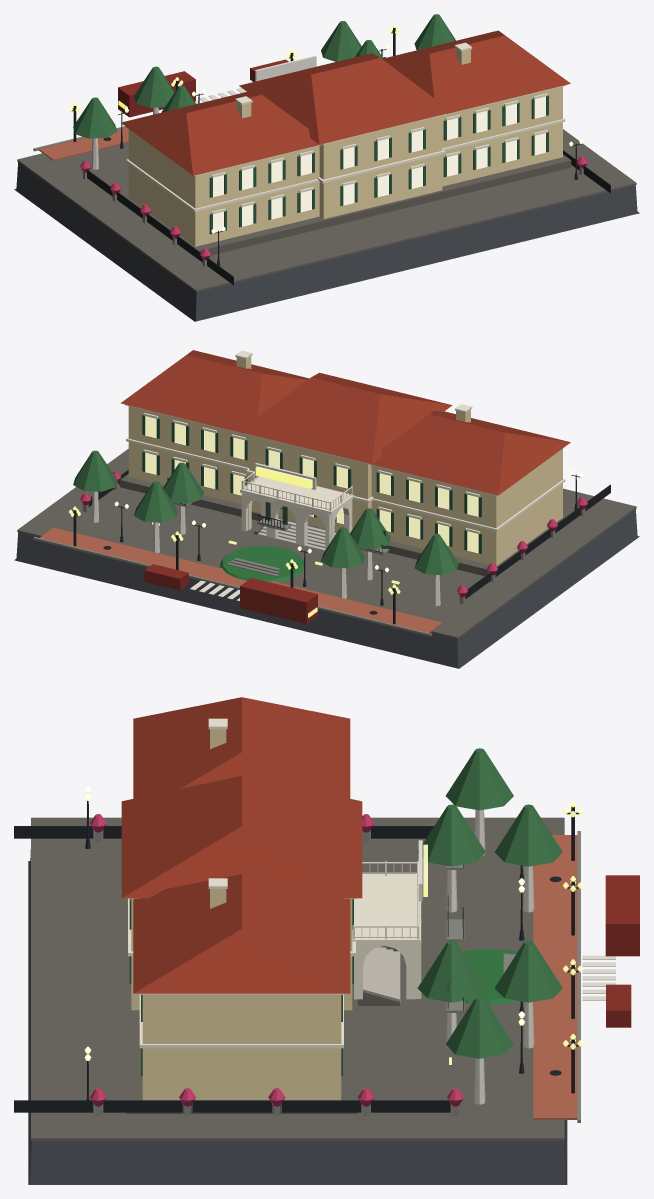
Rendered from lm_09_dinh_1.glb.
The picture shows the model from 3 angles, top to bottom: view 1: azimuth 30°, elevation 25°; view 2: azimuth 150°, elevation 25°; view 3: azimuth 270°, elevation 25°; orthographic projection. The views are drawn at different scales.
Visible parts, largest first — view 1: Dinh1_Hipped_Terracotta_Roof, Dinh1_Neoclassical_Ochre_Walls, Foundation_Plinth_Trim, Foundation_Skirt, Dinh1_Palace_Windows_Glow, Melaleuca_Green_Canopies, Dinh1_Stone_Plinth, Dinh1_Classical_Ivory_Moldings, Dinh1_Green_Window_Shutters, Phase2_WroughtIron_Balconies_Railings_Manholes, Phase2_Vintage_Vehicles_Train_SwanBoat, Phase2_Interlocking_Brick_Sidewalk (+2 smaller); view 2: Dinh1_Hipped_Terracotta_Roof, Foundation_Plinth_Trim, Dinh1_Neoclassical_Ochre_Walls, Foundation_Skirt, Dinh1_Classical_Ivory_Moldings, Melaleuca_Green_Canopies, Phase2_Interlocking_Brick_Sidewalk, Dinh1_Palace_Windows_Glow, Phase2_Vintage_Vehicles_Train_SwanBoat, Dinh1_Green_Window_Shutters, Phase2_Granite_Curb_And_Entry_Steps, Dinh1_Stone_Plinth (+9 smaller); view 3: Foundation_Plinth_Trim, Dinh1_Hipped_Terracotta_Roof, Foundation_Skirt, Dinh1_Neoclassical_Ochre_Walls, Melaleuca_Green_Canopies, Phase2_Interlocking_Brick_Sidewalk, Dinh1_Classical_Ivory_Moldings, Phase2_WroughtIron_Balconies_Railings_Manholes, Phase2_Vintage_Vehicles_Train_SwanBoat, Dinh1_Stone_Plinth, Phase2_Granite_Curb_And_Entry_Steps, Melaleuca_White_Trunks (+6 smaller).
Boxes of the visible parts, box(x1,y1,x2,y2) form: Dinh1_Hipped_Terracotta_Roof: box(121, 30, 570, 175); Dinh1_Neoclassical_Ochre_Walls: box(128, 48, 562, 246); Foundation_Plinth_Trim: box(17, 129, 636, 292); Foundation_Skirt: box(14, 162, 639, 321); Dinh1_Palace_Windows_Glow: box(213, 96, 545, 232); Melaleuca_Green_Canopies: box(73, 14, 455, 138); Dinh1_Stone_Plinth: box(122, 154, 571, 255); Dinh1_Classical_Ivory_Moldings: box(126, 42, 566, 214); Dinh1_Green_Window_Shutters: box(209, 95, 548, 234); Phase2_WroughtIron_Balconies_Railings_Manholes: box(72, 27, 610, 284); Phase2_Vintage_Vehicles_Train_SwanBoat: box(118, 59, 288, 117); Phase2_Interlocking_Brick_Sidewalk: box(38, 127, 128, 160); Dinh1_Hipped_Terracotta_Roof: box(121, 350, 570, 495); Foundation_Plinth_Trim: box(17, 449, 636, 639); Dinh1_Neoclassical_Ochre_Walls: box(128, 356, 562, 565); Foundation_Skirt: box(14, 509, 639, 668); Dinh1_Classical_Ivory_Moldings: box(125, 350, 565, 549); Melaleuca_Green_Canopies: box(73, 450, 458, 575); Phase2_Interlocking_Brick_Sidewalk: box(40, 527, 442, 632); Dinh1_Palace_Windows_Glow: box(145, 416, 478, 553); Phase2_Vintage_Vehicles_Train_SwanBoat: box(144, 564, 317, 623); Dinh1_Green_Window_Shutters: box(142, 415, 481, 553); Phase2_Granite_Curb_And_Entry_Steps: box(33, 482, 585, 636); Dinh1_Stone_Plinth: box(120, 474, 569, 576); Foundation_Plinth_Trim: box(31, 817, 564, 1140); Dinh1_Hipped_Terracotta_Roof: box(121, 697, 362, 993); Foundation_Skirt: box(28, 849, 567, 1184); Dinh1_Neoclassical_Ochre_Walls: box(131, 729, 352, 1100); Melaleuca_Green_Canopies: box(417, 748, 562, 1058); Phase2_Interlocking_Brick_Sidewalk: box(533, 835, 577, 1119); Dinh1_Classical_Ivory_Moldings: box(126, 718, 421, 1048); Phase2_WroughtIron_Balconies_Railings_Manholes: box(14, 807, 579, 1112); Phase2_Vintage_Vehicles_Train_SwanBoat: box(605, 875, 639, 1027); Dinh1_Stone_Plinth: box(126, 898, 357, 1113); Phase2_Granite_Curb_And_Entry_Steps: box(95, 831, 580, 1122); Melaleuca_White_Trunks: box(446, 810, 534, 1104).
Size of the model in its own units: 54.75 by 17.5 by 44.74.
